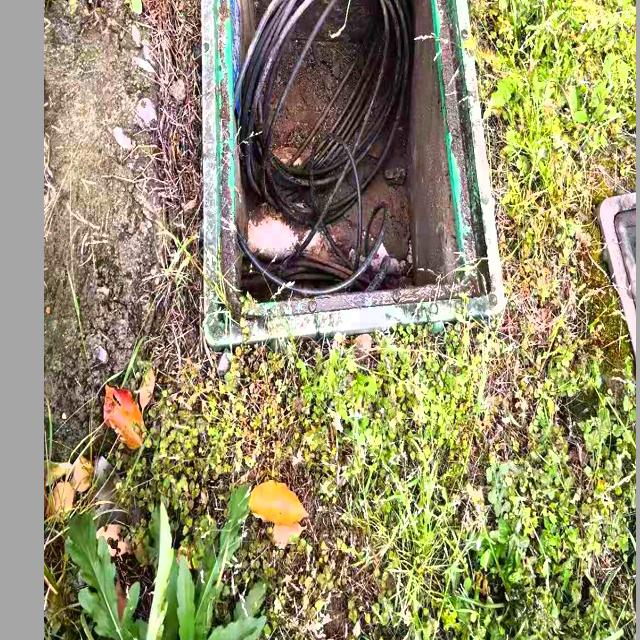lose: (196, 0, 506, 352)
